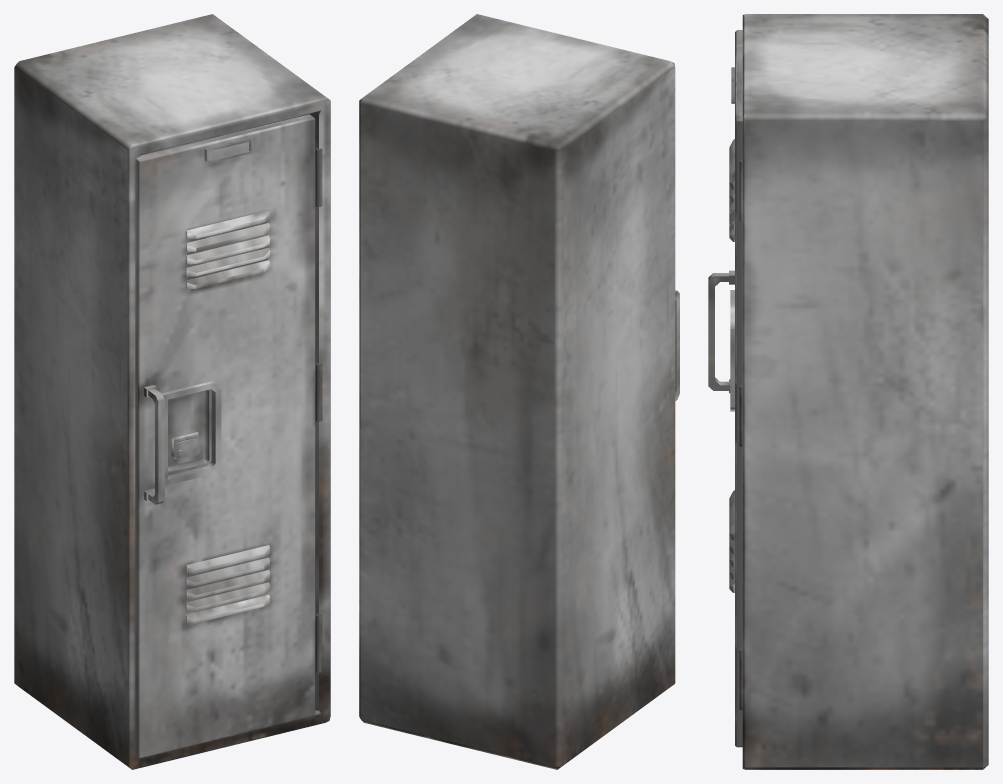
The model's file is fixed_locker.fbx.
3 renders of one model, left to right at view 1: azimuth 30°, elevation 25°; view 2: azimuth 150°, elevation 25°; view 3: azimuth 270°, elevation 25°, orthographic. The views are drawn at different scales.
Visible parts, largest first — view 1: Locker, Locker.001; view 2: Locker; view 3: Locker, Locker.001.
Boxes of the visible parts, x1=… form: Locker: x1=14, y1=14, x2=330, y2=769; Locker.001: x1=135, y1=114, x2=315, y2=758; Locker: x1=359, y1=14, x2=675, y2=769; Locker: x1=739, y1=14, x2=988, y2=769; Locker.001: x1=708, y1=30, x2=742, y2=747.
Bounding box in the file's own units: 43.06 × 127 × 49.07.
Materials: 1 (1 with a texture image).
